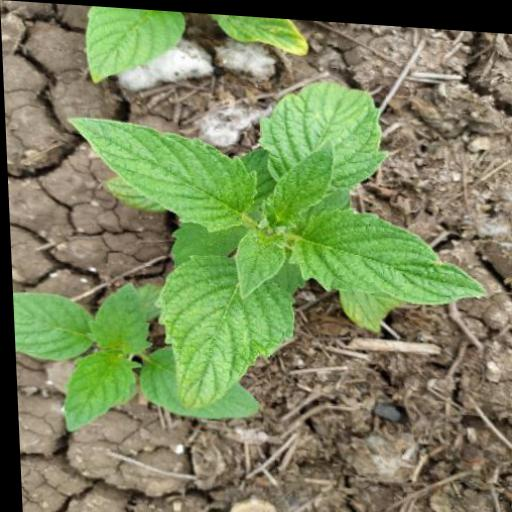crop: (2, 56, 496, 459)
